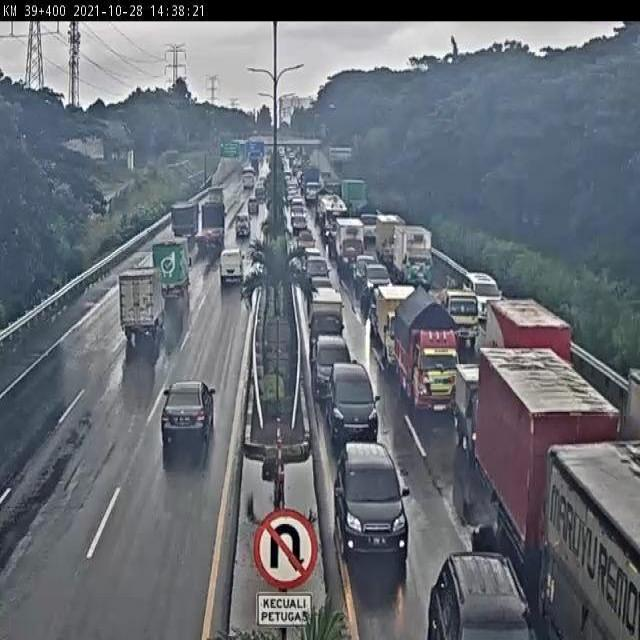big truck: (477, 343, 602, 553), (551, 442, 640, 640), (486, 300, 576, 412), (199, 198, 224, 262), (167, 196, 203, 240)
car: (422, 546, 534, 640), (336, 445, 414, 568), (154, 373, 225, 459), (328, 363, 379, 441), (313, 332, 357, 407), (216, 247, 249, 297), (233, 211, 258, 245)
small truck: (396, 294, 467, 414), (379, 282, 434, 374), (456, 361, 503, 468), (110, 267, 161, 352), (393, 227, 441, 297), (303, 291, 351, 352), (438, 281, 484, 343), (154, 235, 194, 304), (372, 210, 409, 270)
